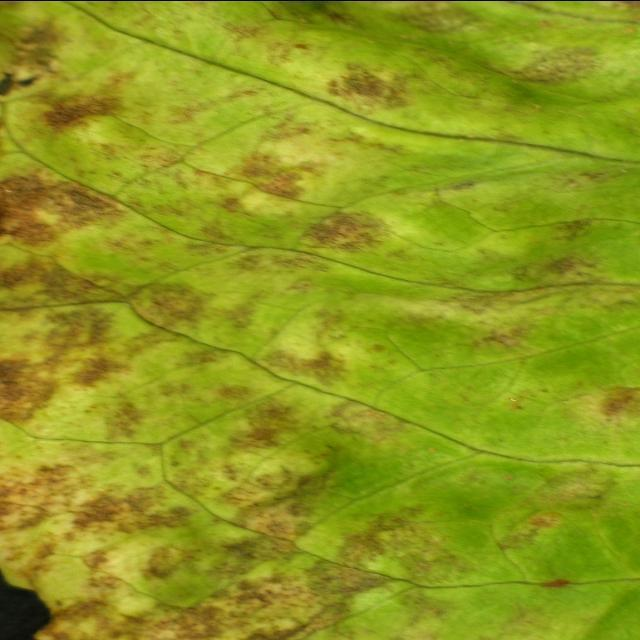Septoria_Blight_on_lettuce: (9, 11, 465, 635)
